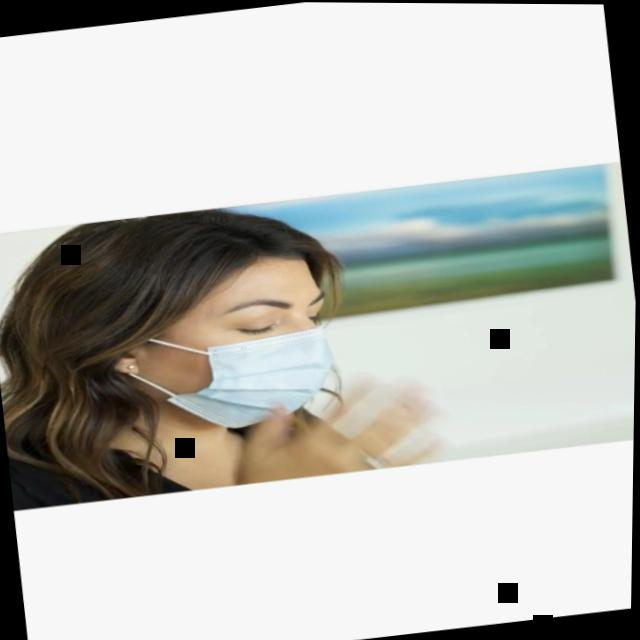Mask: (92, 224, 358, 443)
